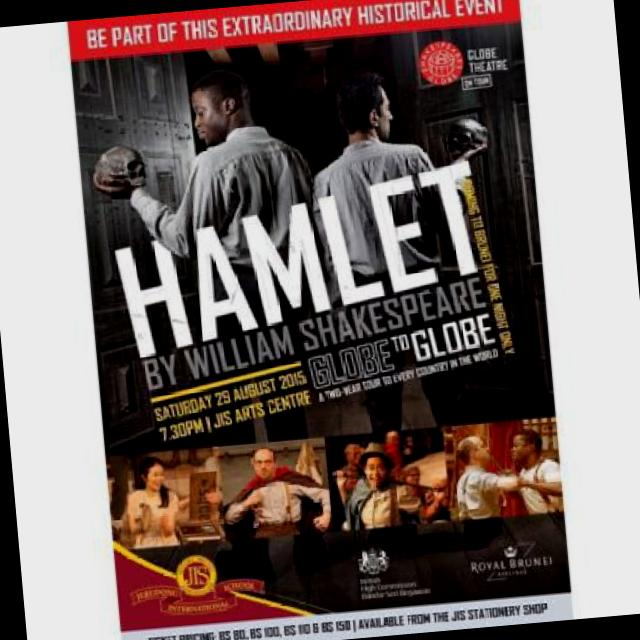Person: (80, 60, 348, 592), (302, 61, 524, 568), (330, 426, 452, 530), (218, 442, 334, 538), (447, 430, 523, 520), (120, 452, 180, 547), (504, 423, 564, 518), (172, 446, 222, 519)
